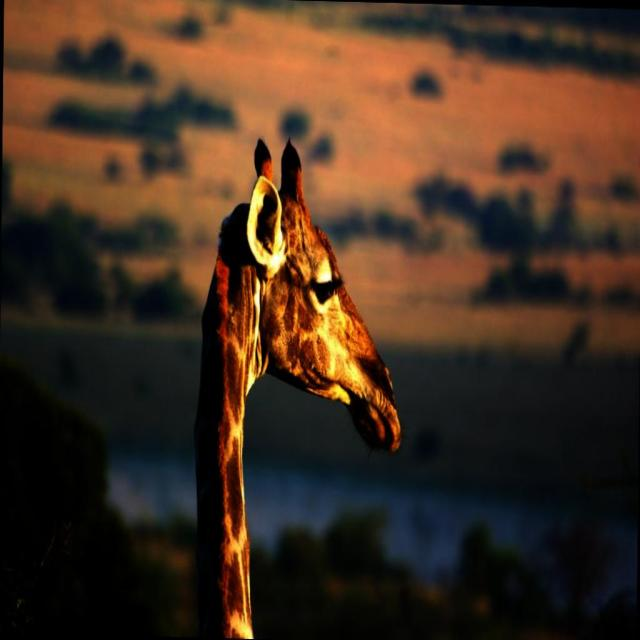Giraffe: (186, 124, 407, 640)
